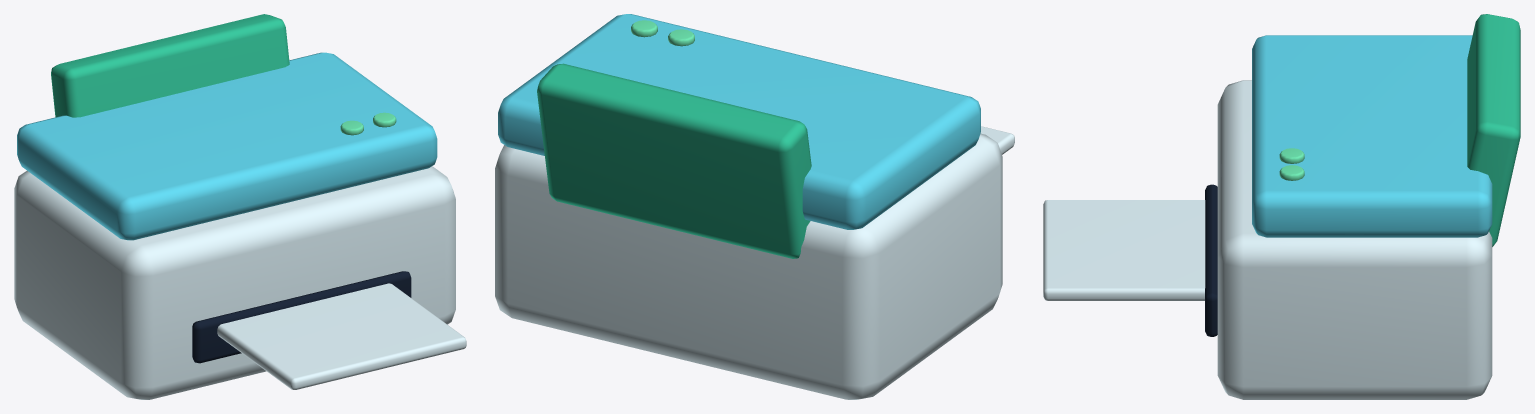
File: printer.fbx
3 views of the same model, side by side, from view 1: azimuth 30°, elevation 25°; view 2: azimuth 150°, elevation 25°; view 3: azimuth 270°, elevation 25° (orthographic). The views are drawn at different scales.
Parts seen in each view (by area): view 1: printer; view 2: printer; view 3: printer.
Part boxes in pixels (x1,y1,x2,y2): printer: (14, 14, 466, 399); printer: (495, 14, 1014, 399); printer: (1043, 14, 1520, 399).
Size of the model in its own units: 86.28 by 58.96 by 100.
1 material, 1 textured.
